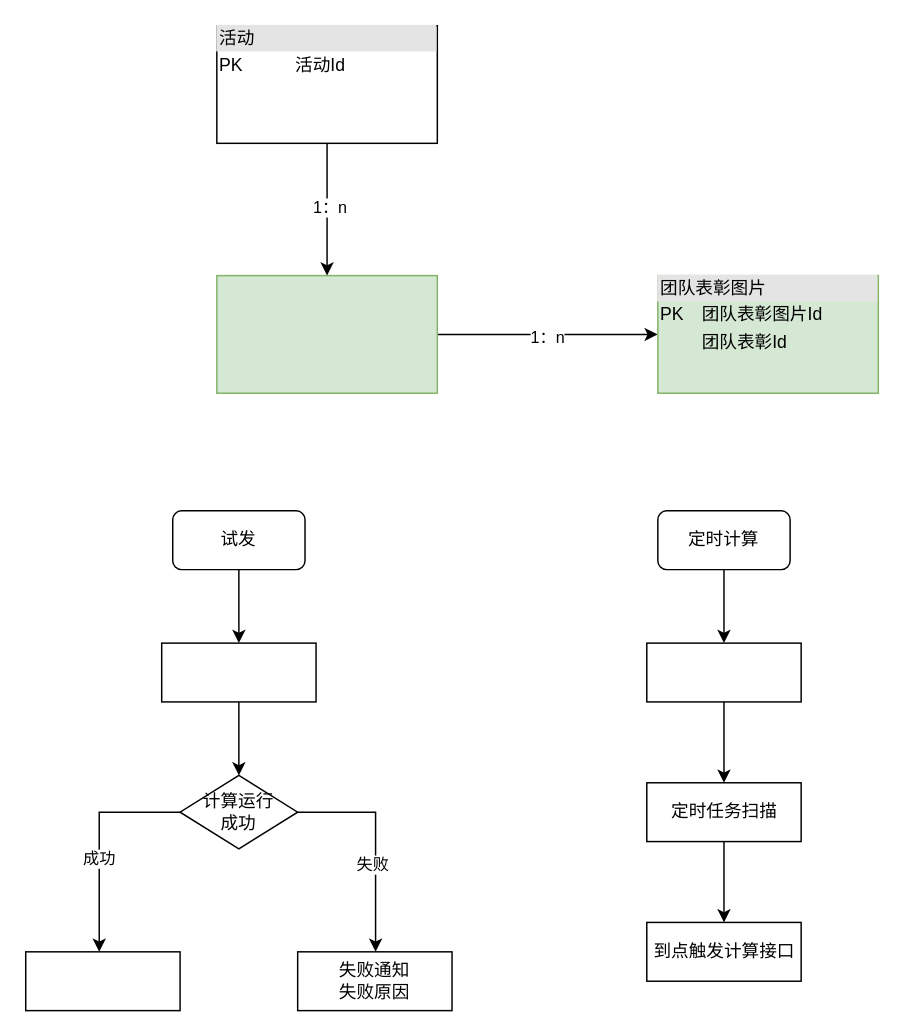
Image size: 904x1036. Some labels were removed from this diagram. Here are the shapes that lost their labels. From the top down, the centre of each, then its label:
the point at 326,333: 团队表彰 PK 团队表彰Id 活动Id
the point at 238,672: 调用计算接口 试发人员
the point at 723,672: 设置定时计算时间
the point at 102,980: 成功通知
